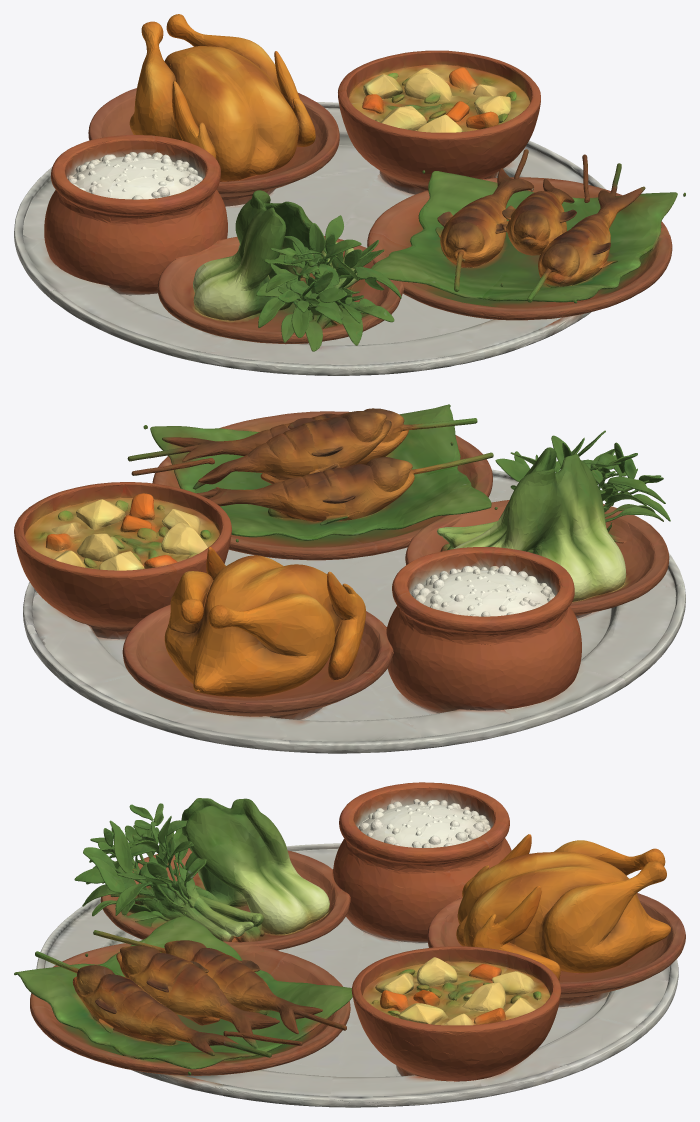
File: champa6.glb
The picture shows the model from 3 angles, top to bottom: view 1: azimuth 30°, elevation 25°; view 2: azimuth 150°, elevation 25°; view 3: azimuth 270°, elevation 25°; orthographic projection. The views are drawn at different scales.
Visible parts, largest first — view 1: tripo_node_81ee5391-3434-469f-b98f-429bb6088d88; view 2: tripo_node_81ee5391-3434-469f-b98f-429bb6088d88; view 3: tripo_node_81ee5391-3434-469f-b98f-429bb6088d88.
Boxes of the visible parts, <box> form: tripo_node_81ee5391-3434-469f-b98f-429bb6088d88: <box>14,14,685,375</box>; tripo_node_81ee5391-3434-469f-b98f-429bb6088d88: <box>14,404,685,753</box>; tripo_node_81ee5391-3434-469f-b98f-429bb6088d88: <box>14,782,685,1107</box>.
Size of the model in its own units: 0.9349 by 0.2224 by 0.9999.
1 material, 1 textured.
